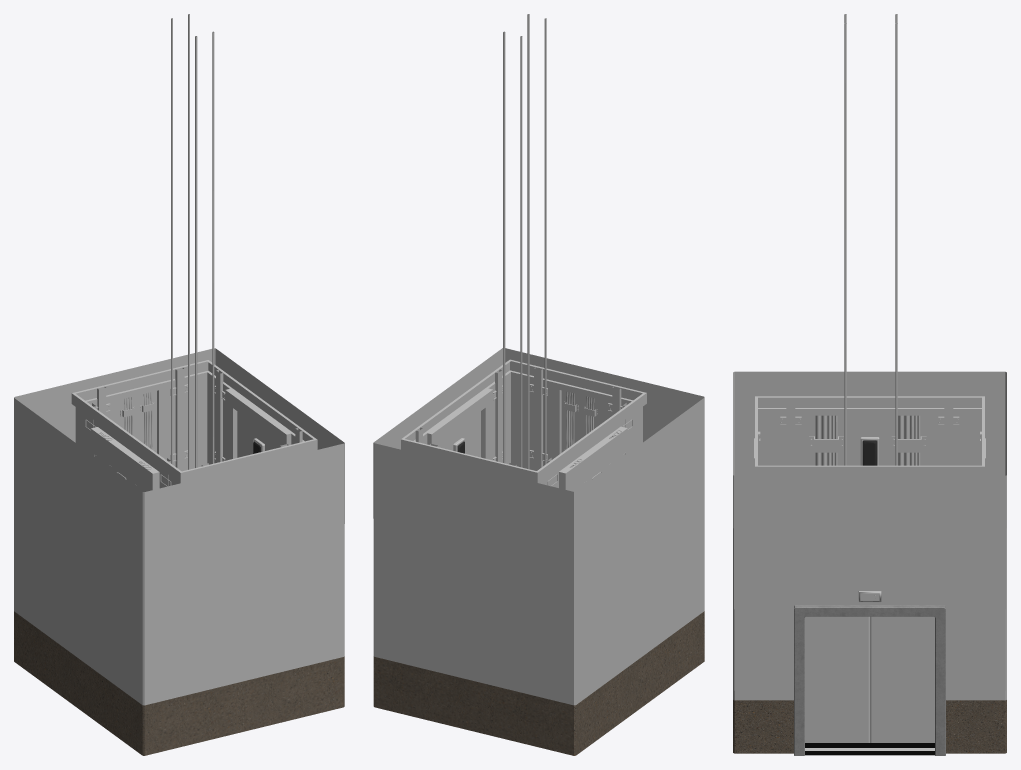
Rendered from Elevator.fbx.
The picture shows the model from 3 angles, left to right: view 1: azimuth 30°, elevation 25°; view 2: azimuth 150°, elevation 25°; view 3: azimuth 270°, elevation 25°; orthographic projection. The views are drawn at different scales.
Visible parts, largest first — view 1: ElevatorBase, Rope, Elevator; view 2: ElevatorBase, Rope, Elevator; view 3: ElevatorBase, ExtDoor01, ExtDoor02, Rope, Elevator.
Part boxes in pixels (x1,y1,x2,y2): ElevatorBase: (14, 348, 344, 755); Rope: (171, 14, 214, 282); Elevator: (171, 261, 214, 469); ElevatorBase: (373, 348, 704, 755); Rope: (503, 14, 546, 283); Elevator: (503, 261, 546, 469); ElevatorBase: (733, 371, 1006, 755); ExtDoor01: (870, 616, 934, 742); ExtDoor02: (805, 616, 869, 742); Rope: (844, 14, 897, 282); Elevator: (844, 283, 897, 465).
Size of the model in its own units: 332 by 1006 by 362.
